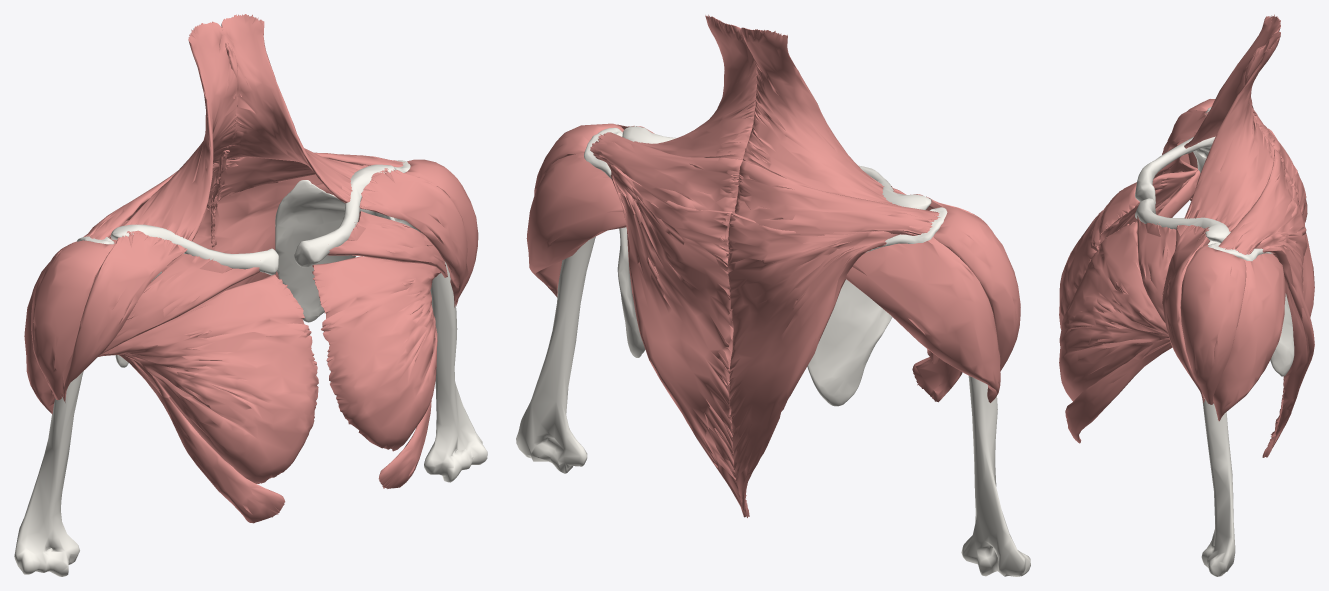
The model's file is ombro.glb.
3 renders of one model, left to right at view 1: azimuth 30°, elevation 25°; view 2: azimuth 150°, elevation 25°; view 3: azimuth 270°, elevation 25°, orthographic. The views are drawn at different scales.
Parts seen in each view (by area): view 1: peitoral-maior, trapezio, deltoide, umero, escapula, clavicula; view 2: trapezio, deltoide, umero, escapula, clavicula, peitoral-maior; view 3: peitoral-maior, trapezio, deltoide, umero, clavicula, escapula.
Boxes of the visible parts, x1,y1,x2,y2 form: peitoral-maior: (98,211,447,523); trapezio: (83,14,404,290); deltoide: (24,159,478,414); umero: (14,218,487,576); escapula: (77,160,410,367); clavicula: (111,164,395,275); trapezio: (590,14,940,517); deltoide: (526,123,1020,402); umero: (516,236,1030,576); escapula: (584,127,947,406); clavicula: (622,126,931,209); peitoral-maior: (891,186,962,402); peitoral-maior: (1059,156,1200,443); trapezio: (1184,14,1314,457); deltoide: (1162,99,1286,421); umero: (1193,149,1235,576); clavicula: (1135,109,1230,242); escapula: (1200,107,1294,376).
Bounding box in the file's own units: 0.4815 × 0.4769 × 0.2439.
